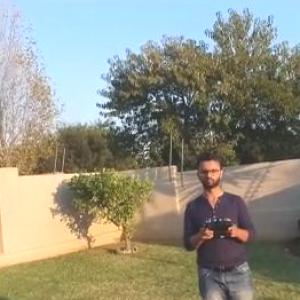follow: (175, 144, 261, 299)
